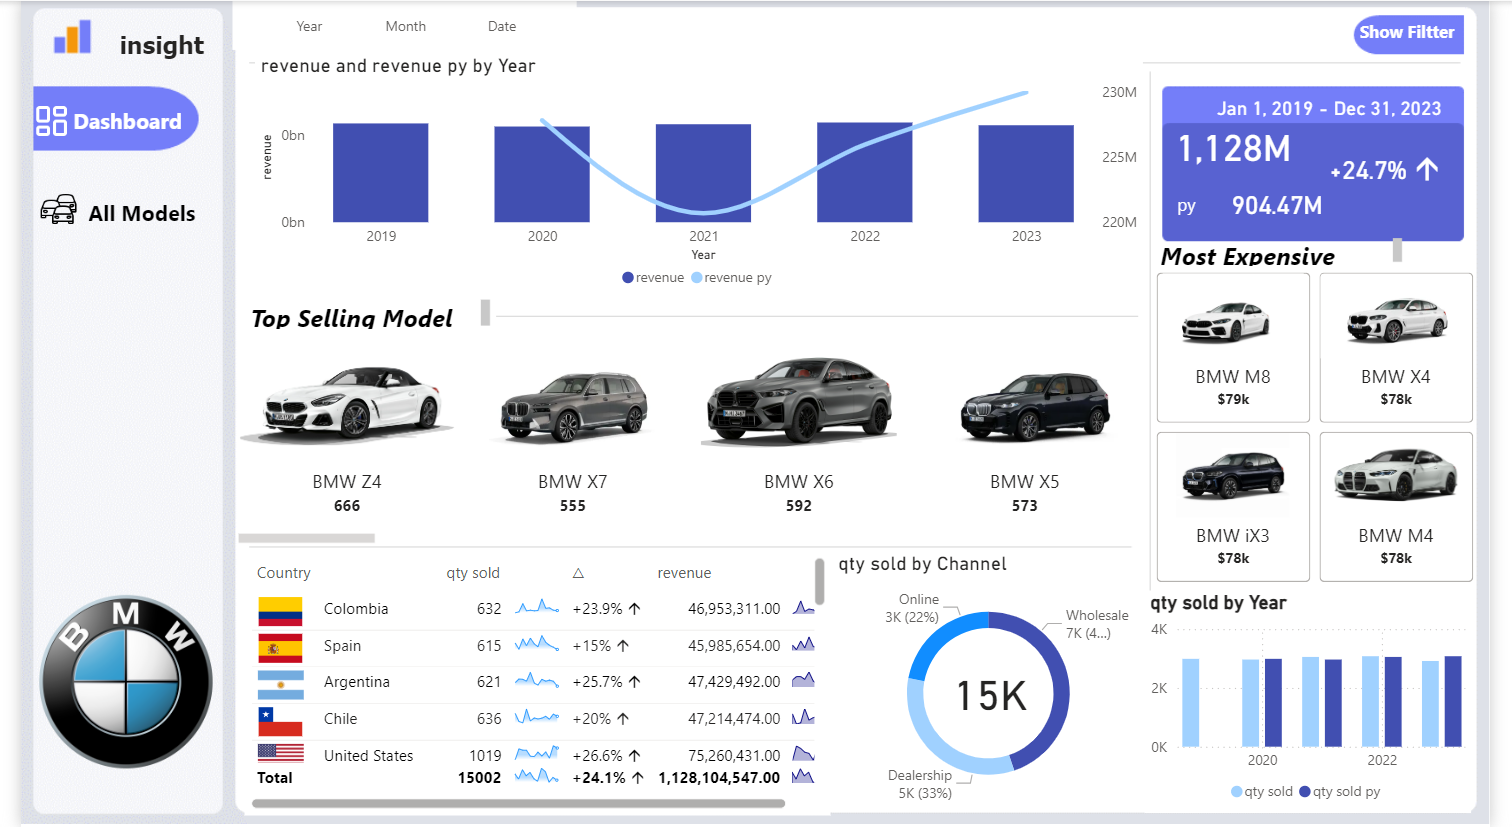

This screenshot's page, from the dashboard's own definition file:
{"tool":"powerbi","page":{"name":"Dashboard","canvas":[1280,720],"ordinal":0},"visuals":[{"type":"lineClusteredColumnComboChart","fields":{"Category":["calendar.Year","calendar.Month","calendar.Date"],"Y":["All  masures.revenue"],"Y2":["All  masures.revenue py"]},"box":[204.1,46.2,774.2,213.8],"z":0},{"type":"slicer","fields":{"Values":["Parameter.Parameter"]},"box":[184.7,0,299.8,42.4],"z":1000},{"type":"card","fields":{"Values":["All  masures.revenue"]},"box":[979.7,95.4,154.4,59.1],"z":2000},{"type":"card","fields":{"Values":["All  masures.revenue py"]},"box":[1016.8,134.8,154.1,84.7],"z":3000},{"type":"textbox","box":[1002.4,162,28.8,39.4],"z":4000},{"type":"card","fields":{"Values":["All  masures.Revenue Variance % Arrow"]},"box":[1111.4,104.5,152.9,84.8],"z":5000},{"type":"card","fields":{"Values":["All  masures.select period"]},"box":[1010,51.5,262,84.8],"z":6000},{"type":"advancedSlicerVisual","fields":{"Values":["dimmodel.Model"]},"box":[184.7,290.7,793.4,189.3],"z":7000},{"type":"textbox","box":[194.6,255.1,219.2,35.9],"z":8000},{"type":"advancedSlicerVisual","fields":{"Values":["dimmodel.Model"],"Label":["Min(dimmodel.img)"]},"box":[985.1,231.5,286.2,281.9],"z":9000},{"type":"textbox","box":[988,201.3,220,34.5],"z":10000},{"type":"clusteredColumnChart","title":"qty sold by Year","fields":{"Y":["All  masures.qty sold","All  masures.qty sold py"],"Category":["calendar.Year"]},"box":[979.7,513.3,284.7,193.8],"z":11000},{"type":"donutChart","fields":{"Y":["All  masures.qty sold"],"Category":["dimchannel.Channel"]},"box":[707.1,480,271,227.1],"z":12000},{"type":"card","fields":{"Values":["All  masures.qty sold"]},"box":[782.8,531.5,122.7,140.8],"z":13000},{"type":"tableEx","fields":{"Values":["dimcountry.Flag","dimcountry.Country","All  masures.qty sold","All  masures.qty sold Sparkline","All  masures.qty sold varience % Arrow","All  masures.revenue","All  masures.revenue Sparkline"]},"box":[194.5,479.2,510.8,229.3],"z":14000},{"type":"textbox","box":[40,86.7,120,50],"z":15000},{"type":"image","box":[0,83.3,53.3,41.7],"z":16000},{"type":"textbox","box":[53.3,166.7,108.3,46.7],"z":17000},{"type":"image","box":[11.7,153.3,41.7,56.7],"z":18000},{"type":"actionButton","box":[11.7,155,148.3,50],"z":19000},{"type":"actionButton","box":[1158.7,6.3,99.7,39.6],"z":21000},{"type":"image","box":[11.1,490.7,161.5,205.8],"z":22000},{"type":"textbox","box":[80.7,19,104.5,47.5],"z":23000},{"type":"image","box":[9.5,6.3,71.2,45.9],"z":24000}]}

Visuals, with their boxes on the page's 1280x720 design canvas (x1, y1, x2, y2). These are canvas units, not pixel positions in the 1512x827 screenshot, which may show the page scaled, cropped or inside an application window:
lineClusteredColumnComboChart - calendar.Year x calendar.Month: <region>204, 46, 978, 260</region>
slicer - Parameter.Parameter: <region>185, 0, 484, 42</region>
card - All  masures.revenue: <region>980, 95, 1134, 154</region>
card - All  masures.revenue py: <region>1017, 135, 1171, 220</region>
textbox: <region>1002, 162, 1031, 201</region>
card - All  masures.Revenue Variance % Arrow: <region>1111, 104, 1264, 189</region>
card - All  masures.select period: <region>1010, 52, 1272, 136</region>
advancedSlicerVisual - dimmodel.Model: <region>185, 291, 978, 480</region>
textbox: <region>195, 255, 414, 291</region>
advancedSlicerVisual - dimmodel.Model x Min(dimmodel.img): <region>985, 232, 1271, 513</region>
textbox: <region>988, 201, 1208, 236</region>
"qty sold by Year" clusteredColumnChart: <region>980, 513, 1264, 707</region>
donutChart - All  masures.qty sold x dimchannel.Channel: <region>707, 480, 978, 707</region>
card - All  masures.qty sold: <region>783, 532, 906, 672</region>
tableEx - dimcountry.Flag x dimcountry.Country: <region>194, 479, 705, 708</region>
textbox: <region>40, 87, 160, 137</region>
image: <region>0, 83, 53, 125</region>
textbox: <region>53, 167, 162, 213</region>
image: <region>12, 153, 53, 210</region>
actionButton: <region>12, 155, 160, 205</region>
actionButton: <region>1159, 6, 1258, 46</region>
image: <region>11, 491, 173, 696</region>
textbox: <region>81, 19, 185, 66</region>
image: <region>10, 6, 81, 52</region>
